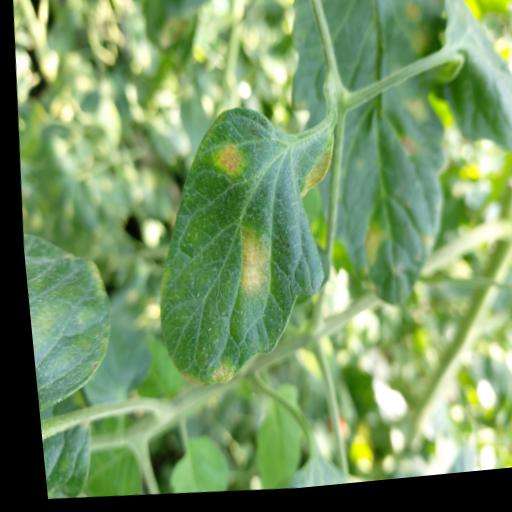Leaf Mold: (269, 0, 472, 325), (134, 100, 352, 402)
